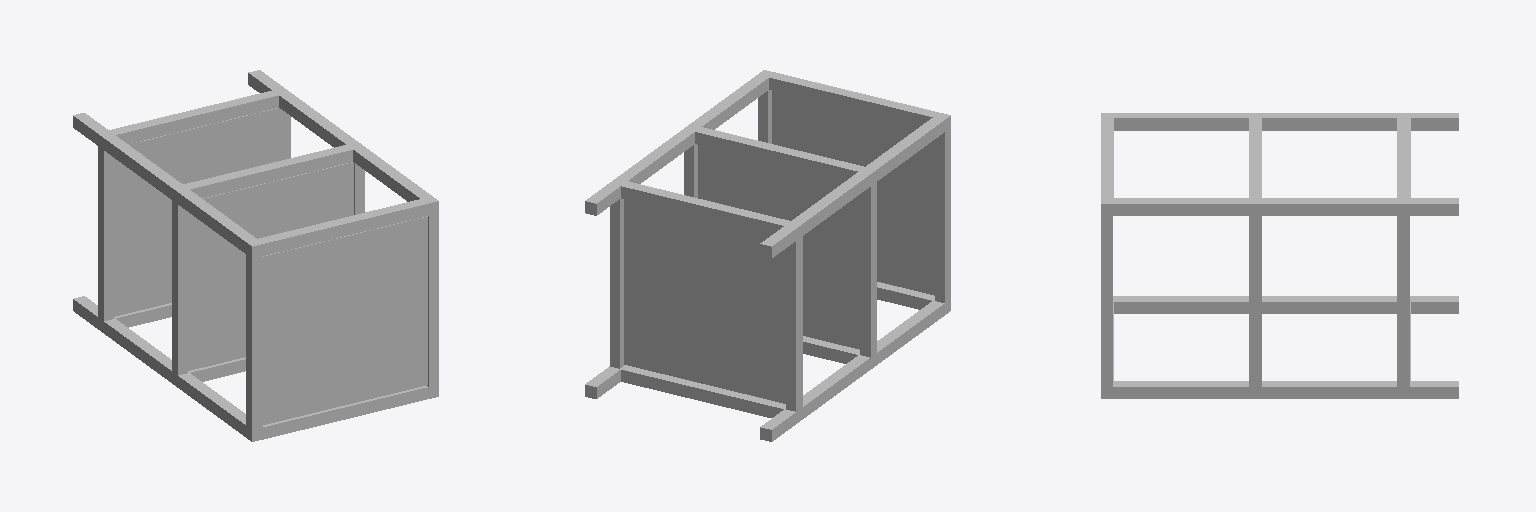
File: Sanitary_Accessories_ODF-Paris_Mobile-side-table-3-shelves-Nautic.obj
3 views of the same model, side by side, from view 1: azimuth 30°, elevation 25°; view 2: azimuth 150°, elevation 25°; view 3: azimuth 270°, elevation 25° (orthographic).
Visible parts, largest first — view 1: default; view 2: default; view 3: default.
Part boxes in pixels (bbox=[...]): default: bbox=[73, 70, 438, 441]; default: bbox=[585, 70, 950, 441]; default: bbox=[1101, 113, 1458, 398].
Bounding box in the file's own units: 400 × 400 × 665.